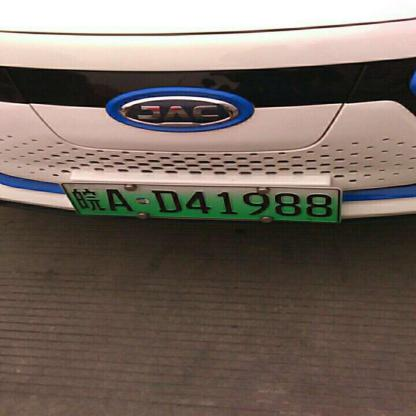lp: (60, 182, 340, 223)
